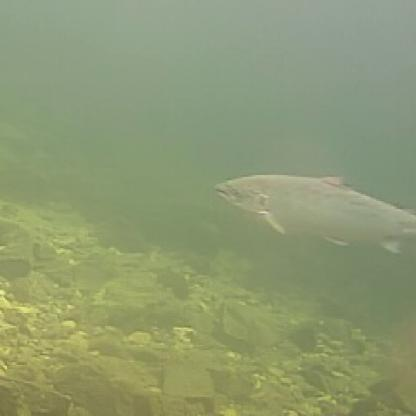salmon: (208, 163, 414, 256)
